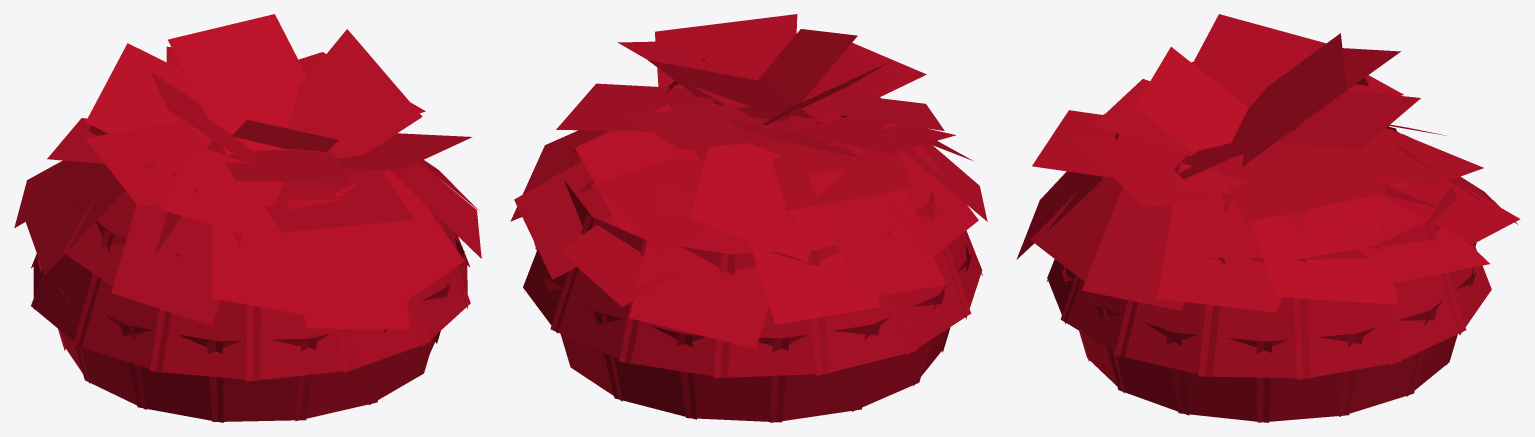
Rendered from Forest_Bush.obj.
The picture shows the model from 3 angles, left to right: view 1: azimuth 30°, elevation 25°; view 2: azimuth 150°, elevation 25°; view 3: azimuth 270°, elevation 25°; orthographic projection. The views are drawn at different scales.
Visible parts, largest first — view 1: Forest_Bush; view 2: Forest_Bush; view 3: Forest_Bush.
Part boxes in pixels (<box>): Forest_Bush: <box>14,14,481,422</box>; Forest_Bush: <box>510,14,987,422</box>; Forest_Bush: <box>1016,14,1520,422</box>.
Size of the model in its own units: 0.4666 by 0.328 by 0.5186.
